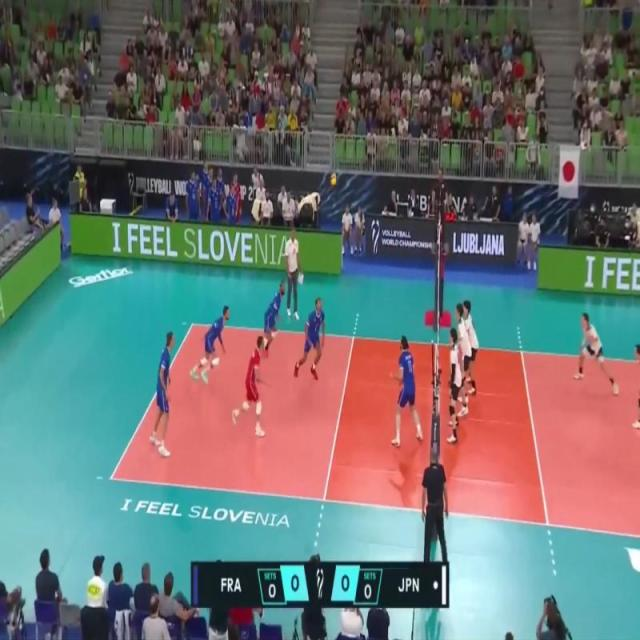volleyball: (329, 171, 339, 189)
